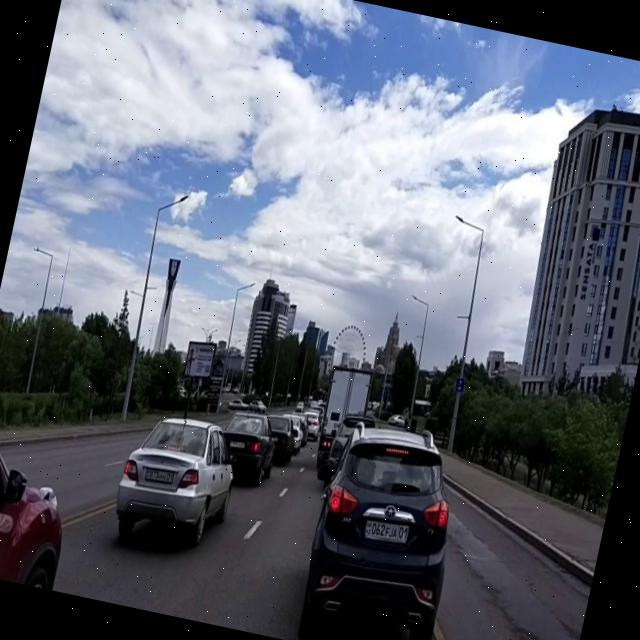License-plate: (362, 514, 411, 551), (142, 463, 176, 488)
